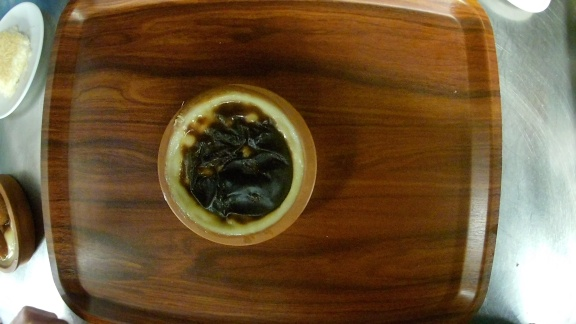sutlac: (158, 83, 318, 246)
